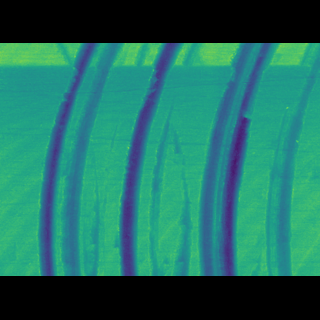Loch: (35, 73, 127, 244), (195, 74, 284, 244), (114, 73, 186, 244), (262, 75, 320, 245), (146, 122, 195, 245)
